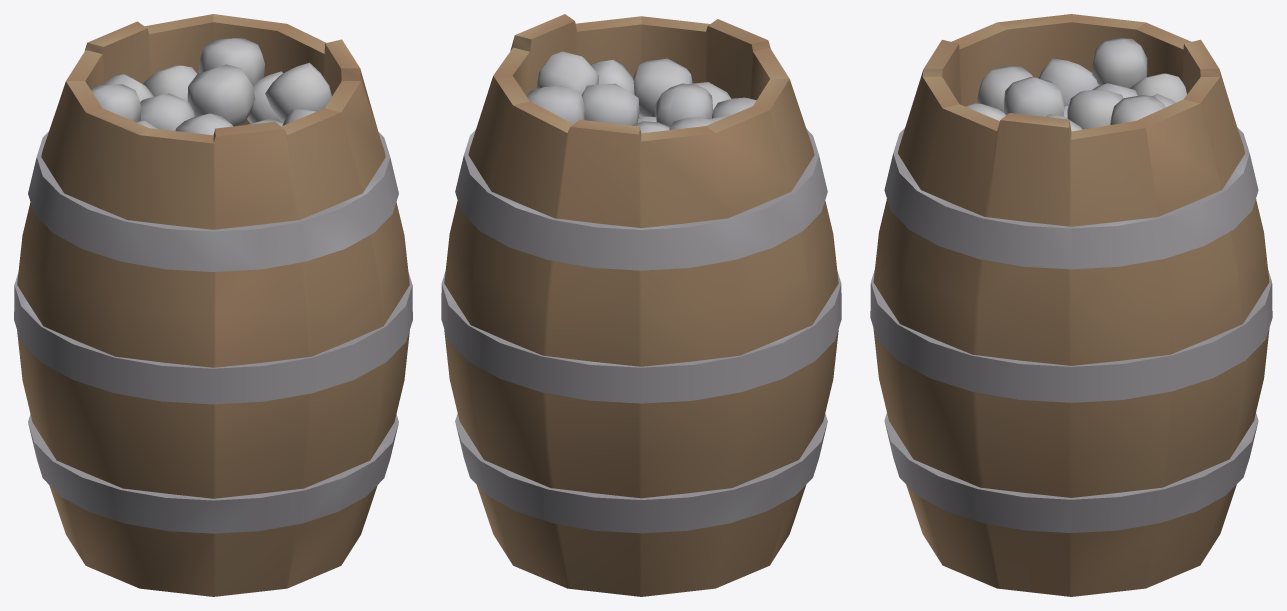
Rendered from Barrel_Apples.glb.
The picture shows the model from 3 angles, left to right: view 1: azimuth 30°, elevation 25°; view 2: azimuth 150°, elevation 25°; view 3: azimuth 270°, elevation 25°; orthographic projection.
Visible parts, largest first — view 1: Barrel_Apples_942f04, Barrel_Apples_4a829d, Barrel_Apples_a3f2d5; view 2: Barrel_Apples_942f04, Barrel_Apples_4a829d, Barrel_Apples_a3f2d5; view 3: Barrel_Apples_942f04, Barrel_Apples_4a829d, Barrel_Apples_a3f2d5.
Part boxes in pixels (bbox=[...]): Barrel_Apples_942f04: bbox=[17, 14, 409, 596]; Barrel_Apples_4a829d: bbox=[14, 131, 412, 533]; Barrel_Apples_a3f2d5: bbox=[90, 38, 331, 135]; Barrel_Apples_942f04: bbox=[444, 14, 838, 596]; Barrel_Apples_4a829d: bbox=[441, 129, 841, 533]; Barrel_Apples_a3f2d5: bbox=[526, 51, 756, 133]; Barrel_Apples_942f04: bbox=[873, 14, 1269, 596]; Barrel_Apples_4a829d: bbox=[870, 127, 1272, 532]; Barrel_Apples_a3f2d5: bbox=[965, 38, 1186, 131].
Bounding box in the file's own units: 0.698 × 0.898 × 0.698.
